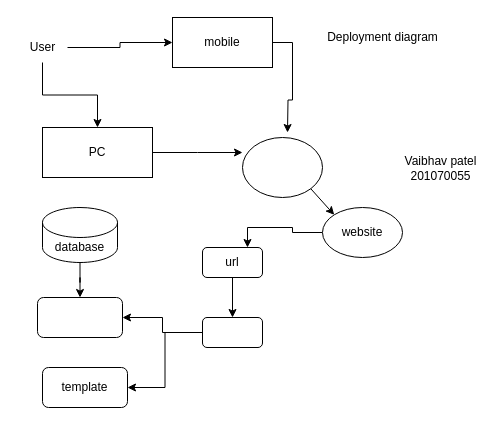
The diagram is 502 pixels wide and 425 high, and some of its shapes have lost their labels. The centre of each missing label's shape, as x and y in pixels:
"internet" belongs at point (282, 167).
"model" belongs at point (79, 317).
"view" belongs at point (232, 332).
